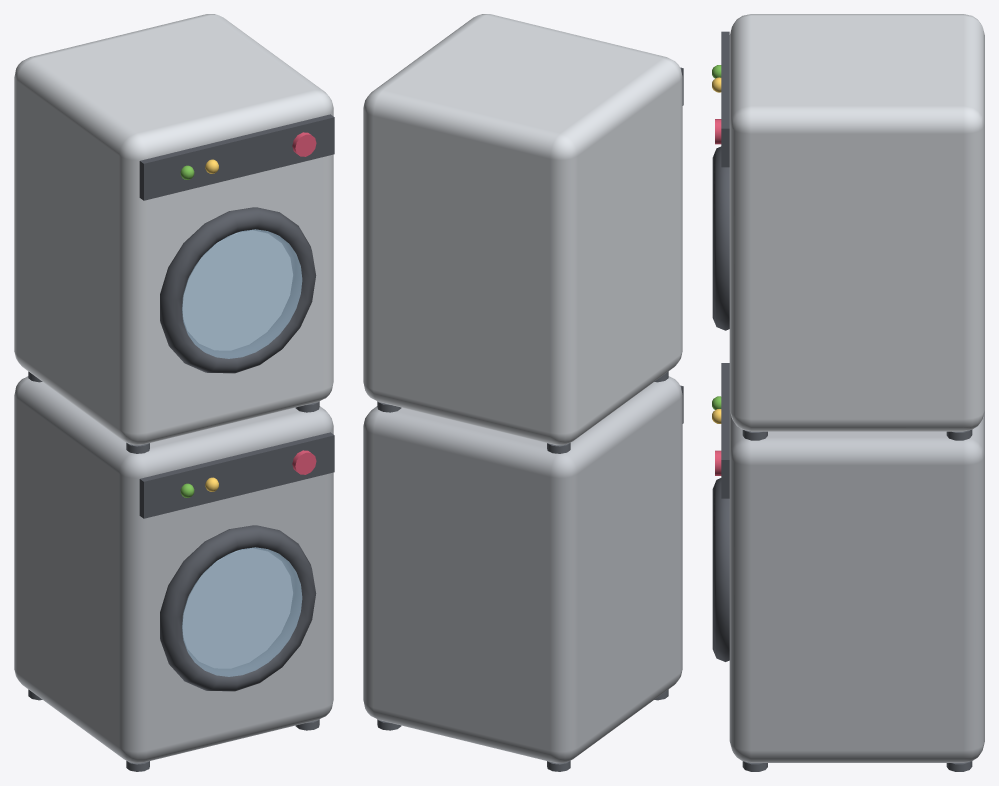
Rendered from washer-stack.glb.
3 views of the same model, side by side, from view 1: azimuth 30°, elevation 25°; view 2: azimuth 150°, elevation 25°; view 3: azimuth 270°, elevation 25° (orthographic). The views are drawn at different scales.
Bounding box in the file's own units: 0.6 × 1.72 × 0.6417.
